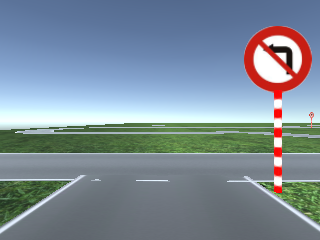0: (1, 196, 319, 240)
NoLeft: (244, 25, 312, 92)
